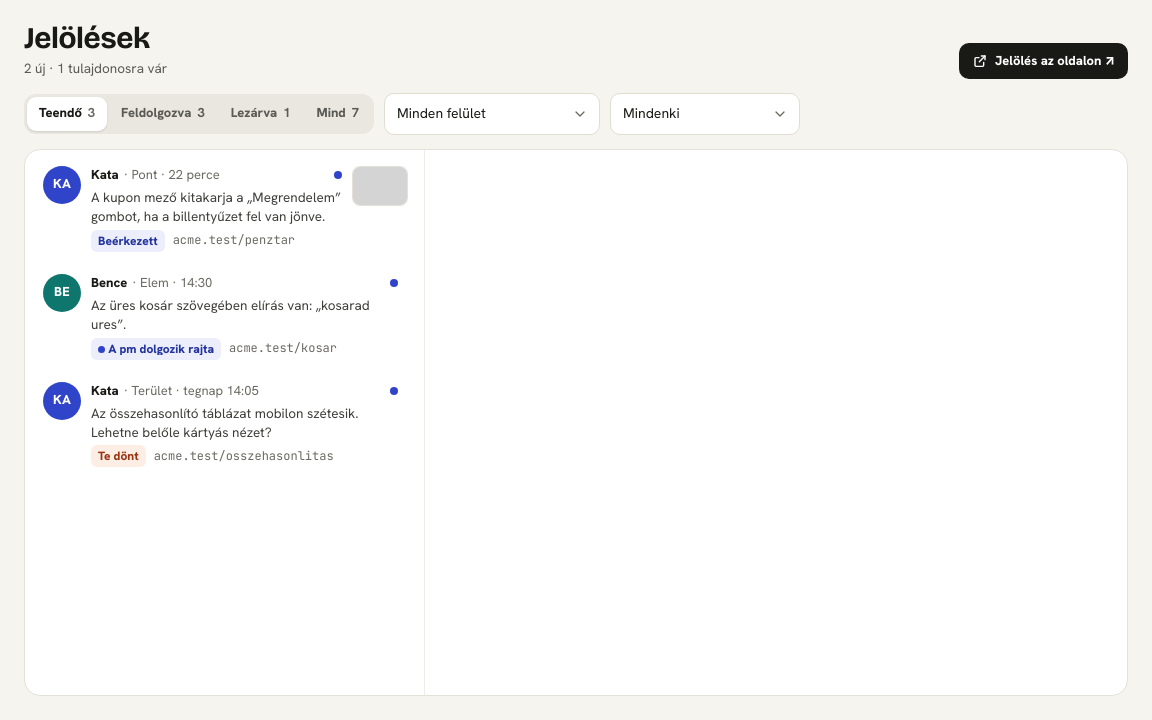
Test: on a phone › shows the list, then the mark with a way back
The width and height of the screenshot is (1152, 720).
expect the list named "Jelölések" is shown: met, box [25, 150, 424, 484]
Click the link "A kupon mező kitakarja": (224, 209) [31, 156, 418, 262]
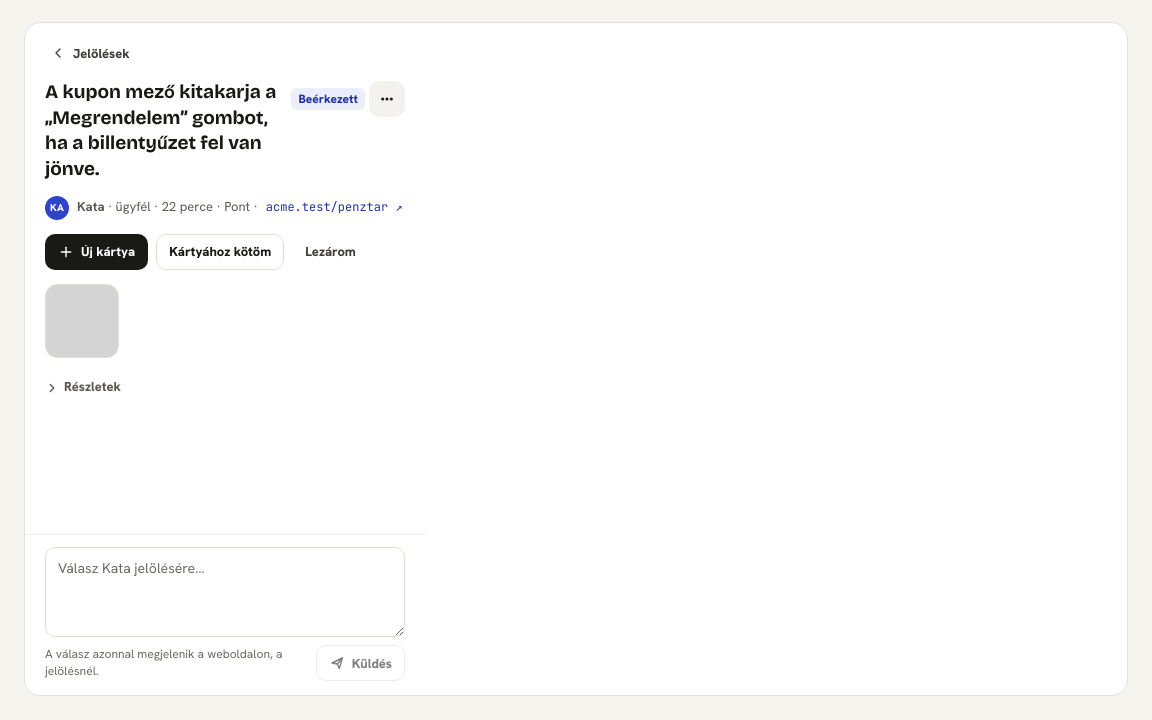
expect the element named "A jelölés részletei" is shown: met, box [25, 23, 425, 695]
Click the link "Jelölések": (90, 53) [50, 44, 130, 62]
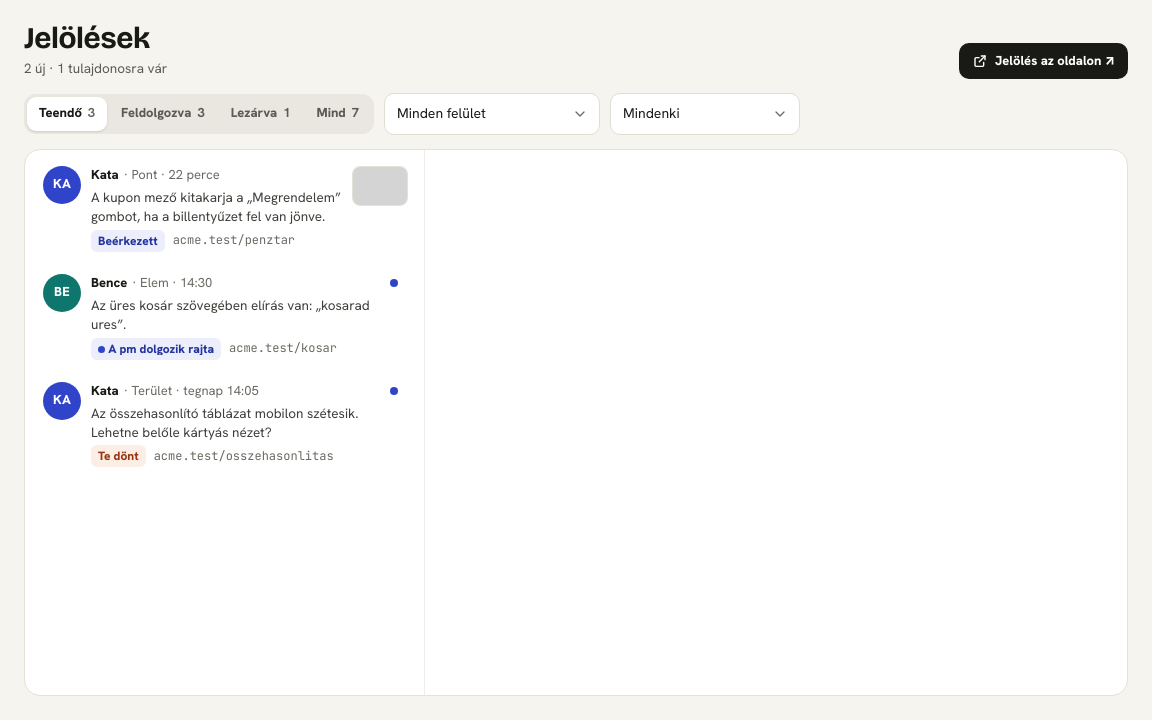
expect the list named "Jelölések" is shown: met, box [25, 150, 424, 484]
